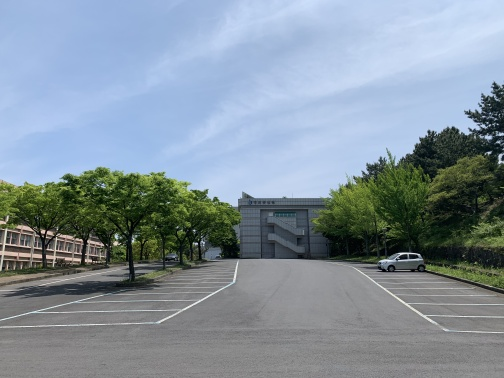College Of Education: (2, 188, 117, 272)
